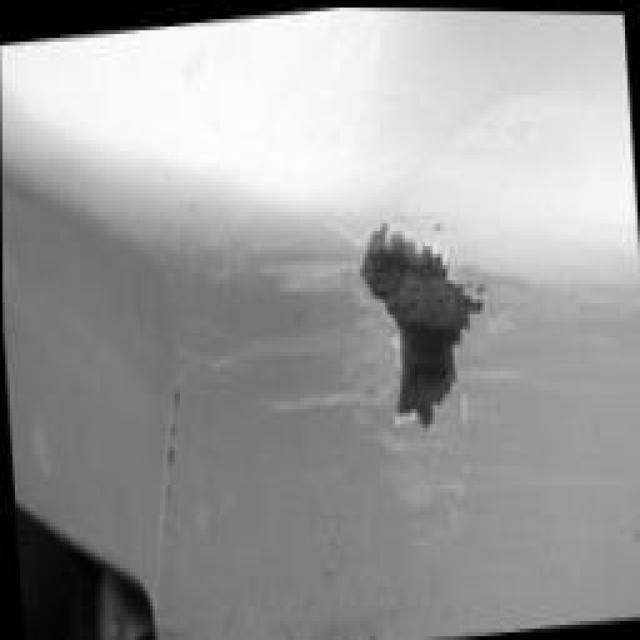Bumper: (298, 106, 529, 599)
